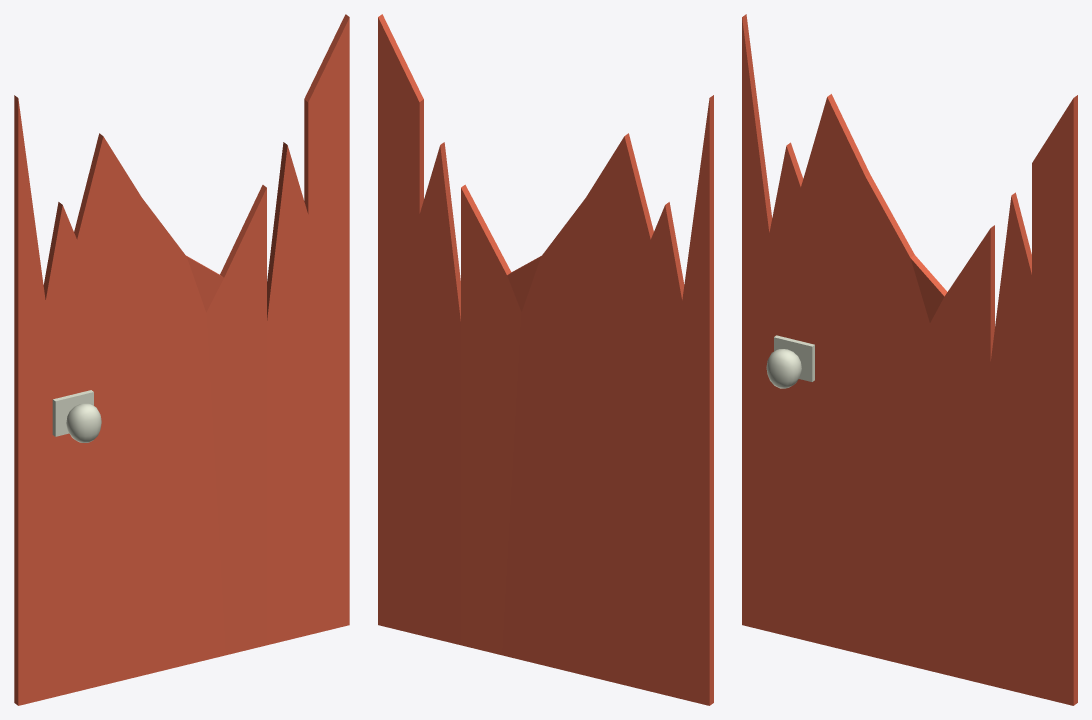
File: Shattered Door.fbx
3 renders of one model, left to right at view 1: azimuth 30°, elevation 25°; view 2: azimuth 150°, elevation 25°; view 3: azimuth 330°, elevation 25°, orthographic.
Visible parts, largest first — view 1: Door, Cube.001, Cube; view 2: Door; view 3: Door, Cube.001, Cube.
Part boxes in pixels (<box>): Door: <box>14,14,349,705</box>; Cube.001: <box>66,403,101,442</box>; Cube: <box>52,390,93,436</box>; Door: <box>378,14,713,705</box>; Door: <box>742,14,1077,705</box>; Cube.001: <box>766,349,801,388</box>; Cube: <box>774,335,814,381</box>.
Bounding box in the file's own units: 114 × 200 × 14.28.
